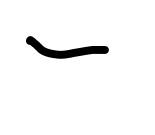minus: (25, 36, 110, 59)
